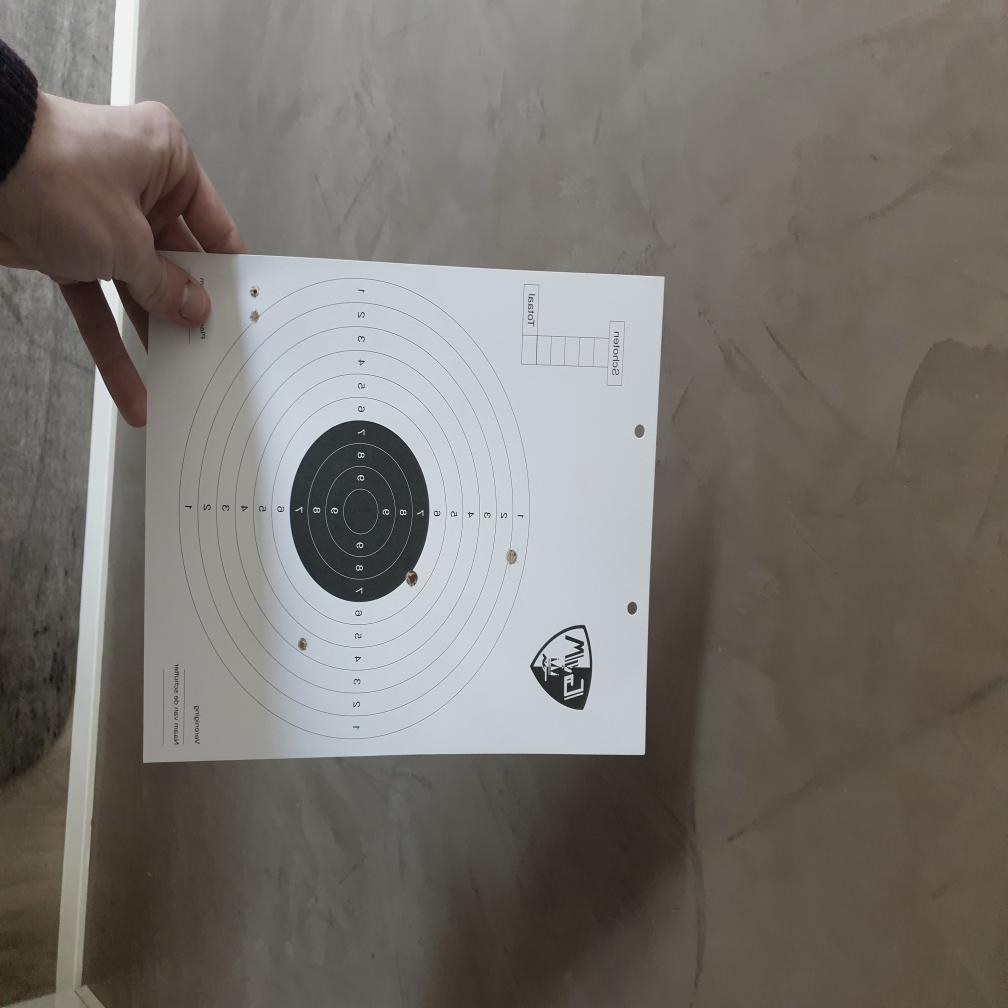0: (249, 285, 260, 298)
1: (249, 308, 260, 328)
2: (504, 549, 518, 568)
4: (298, 637, 308, 651)
7: (406, 569, 418, 587)
Target: (177, 273, 532, 740)
black_contour: (290, 420, 430, 602)
